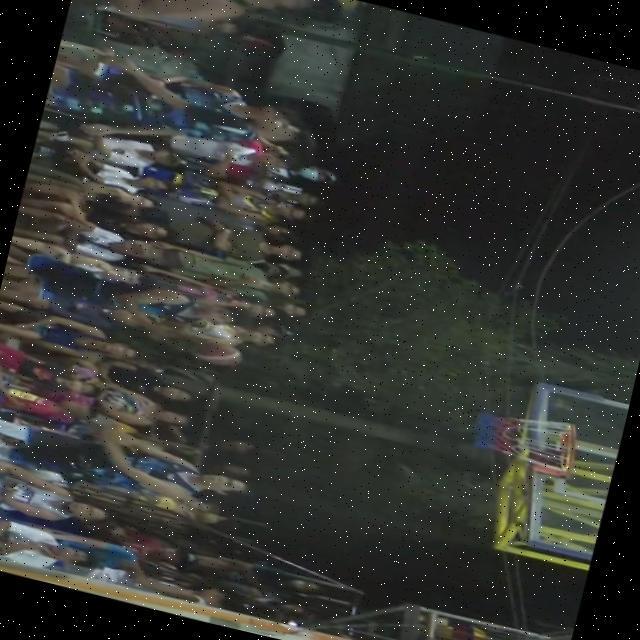ball: (176, 330, 248, 372)
